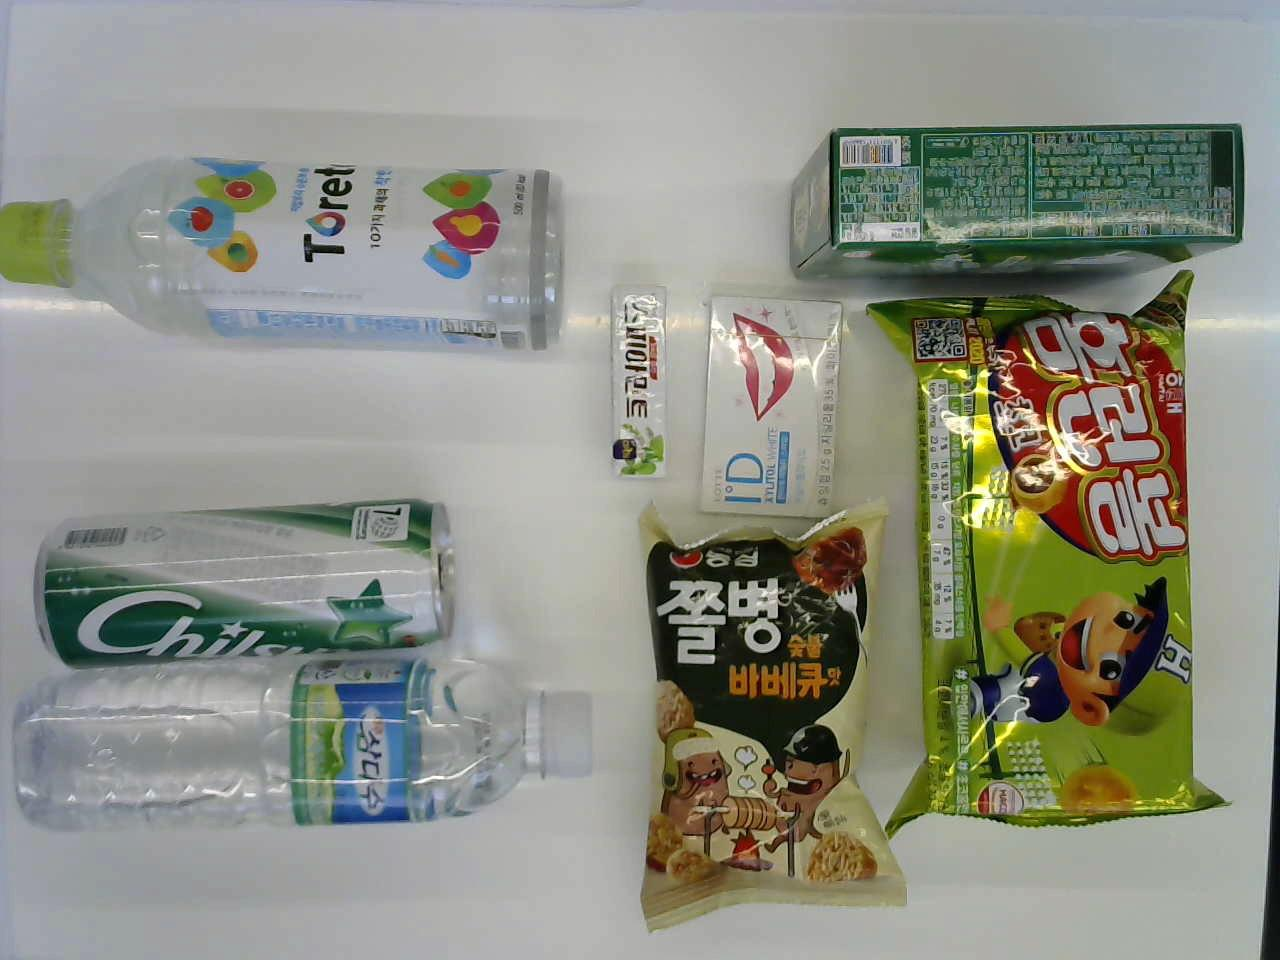ID_gum: (693, 291, 849, 527)
cidar: (25, 481, 447, 663)
couque_coffee: (766, 111, 1253, 284)
homerunball: (889, 282, 1219, 843)
jjolbyung_ori: (628, 501, 908, 919)
samdasu: (16, 663, 607, 849)
spearmint: (602, 273, 678, 487)
toreta: (0, 147, 573, 347)
